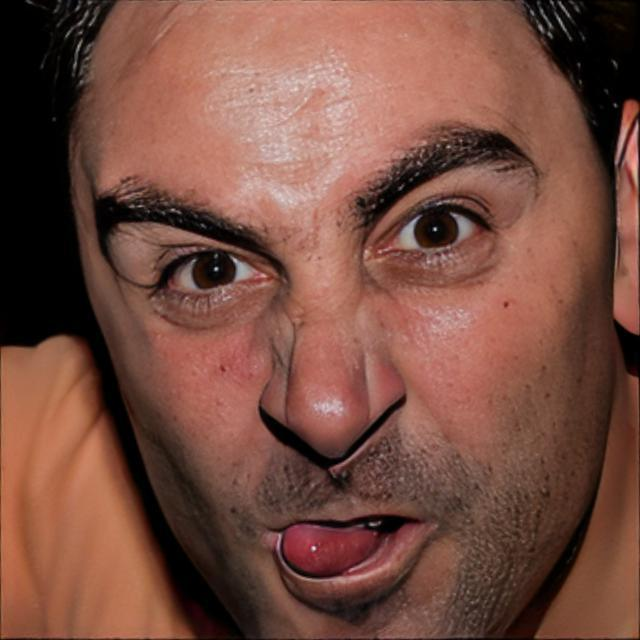anger: (101, 42, 618, 640)
